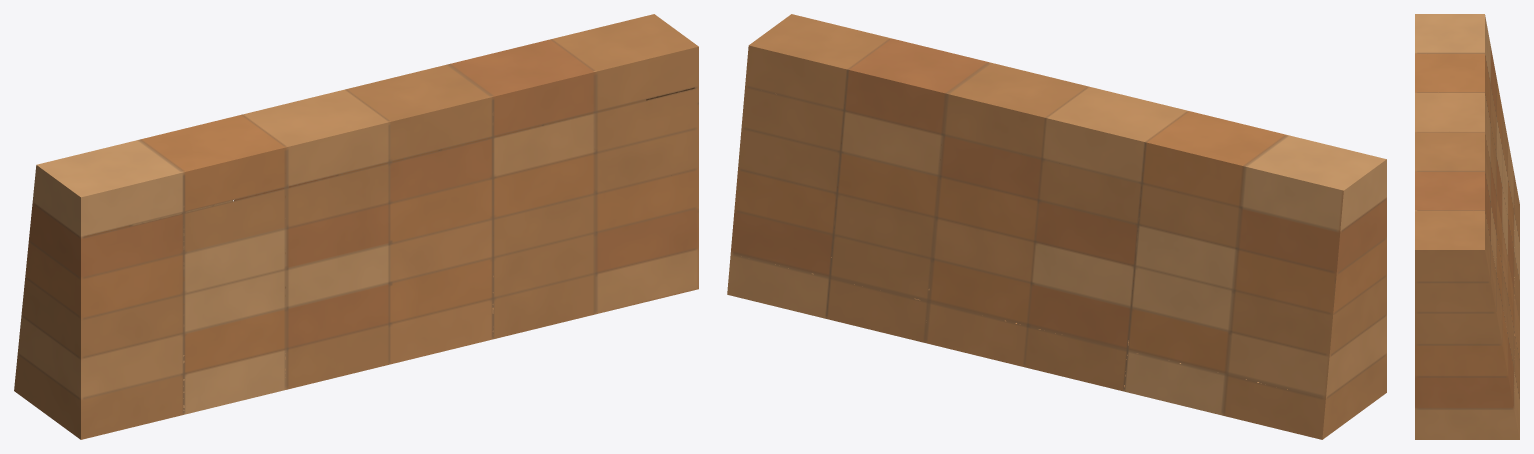
3 views of the same model, side by side, from view 1: azimuth 30°, elevation 25°; view 2: azimuth 150°, elevation 25°; view 3: azimuth 270°, elevation 25° (orthographic). The views are drawn at different scales.
Visible parts, largest first — view 1: ss21-battered-sandstone-wall; view 2: ss21-battered-sandstone-wall; view 3: ss21-battered-sandstone-wall.
Boxes of the visible parts, x1,y1,x2,y2 form: ss21-battered-sandstone-wall: (14, 14, 698, 439); ss21-battered-sandstone-wall: (727, 14, 1386, 439); ss21-battered-sandstone-wall: (1415, 14, 1519, 439).
Bounding box in the file's own units: 400 × 150 × 75.
